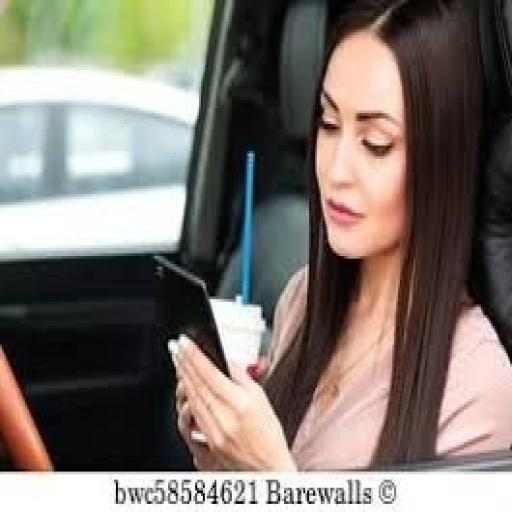texting: (170, 0, 510, 472)
